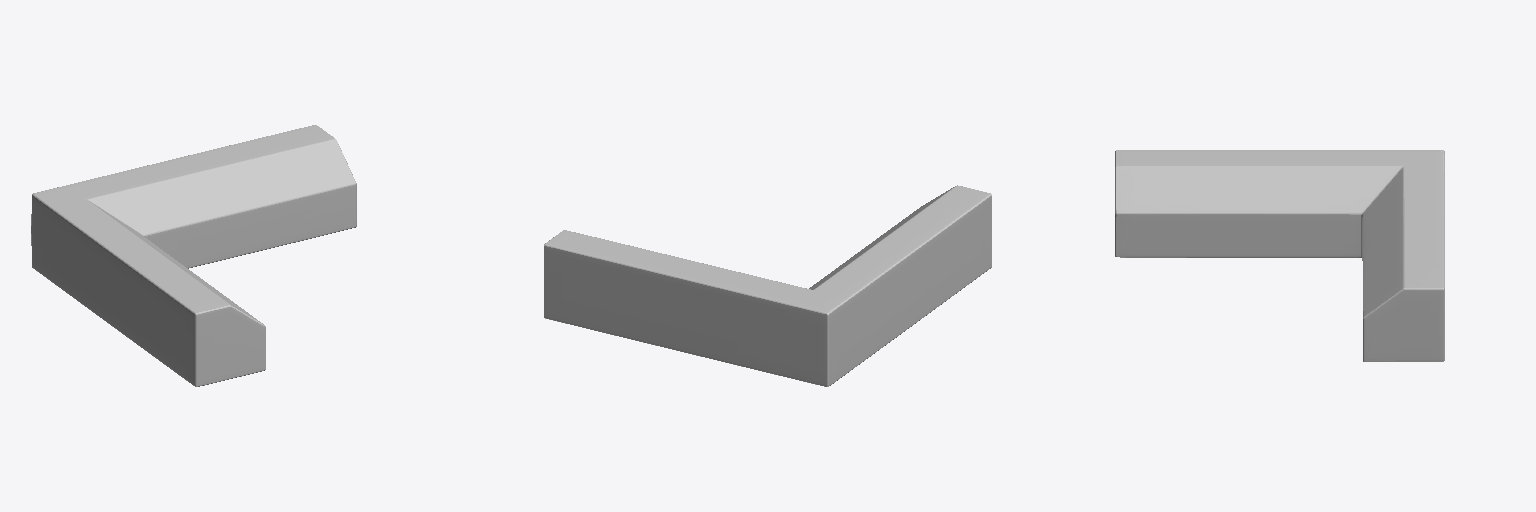
Rendered from OutsideCorner_HP(1).obj.
3 views of the same model, side by side, from view 1: azimuth 30°, elevation 25°; view 2: azimuth 150°, elevation 25°; view 3: azimuth 270°, elevation 25° (orthographic).
Parts seen in each view (by area): view 1: Outside_Corner; view 2: Outside_Corner; view 3: Outside_Corner.
Boxes of the visible parts, box(x1,y1,x2,y2) form: Outside_Corner: box(31, 125, 356, 386); Outside_Corner: box(544, 185, 991, 386); Outside_Corner: box(1115, 150, 1444, 361).
Size of the model in its own units: 4 by 0.9999 by 4.